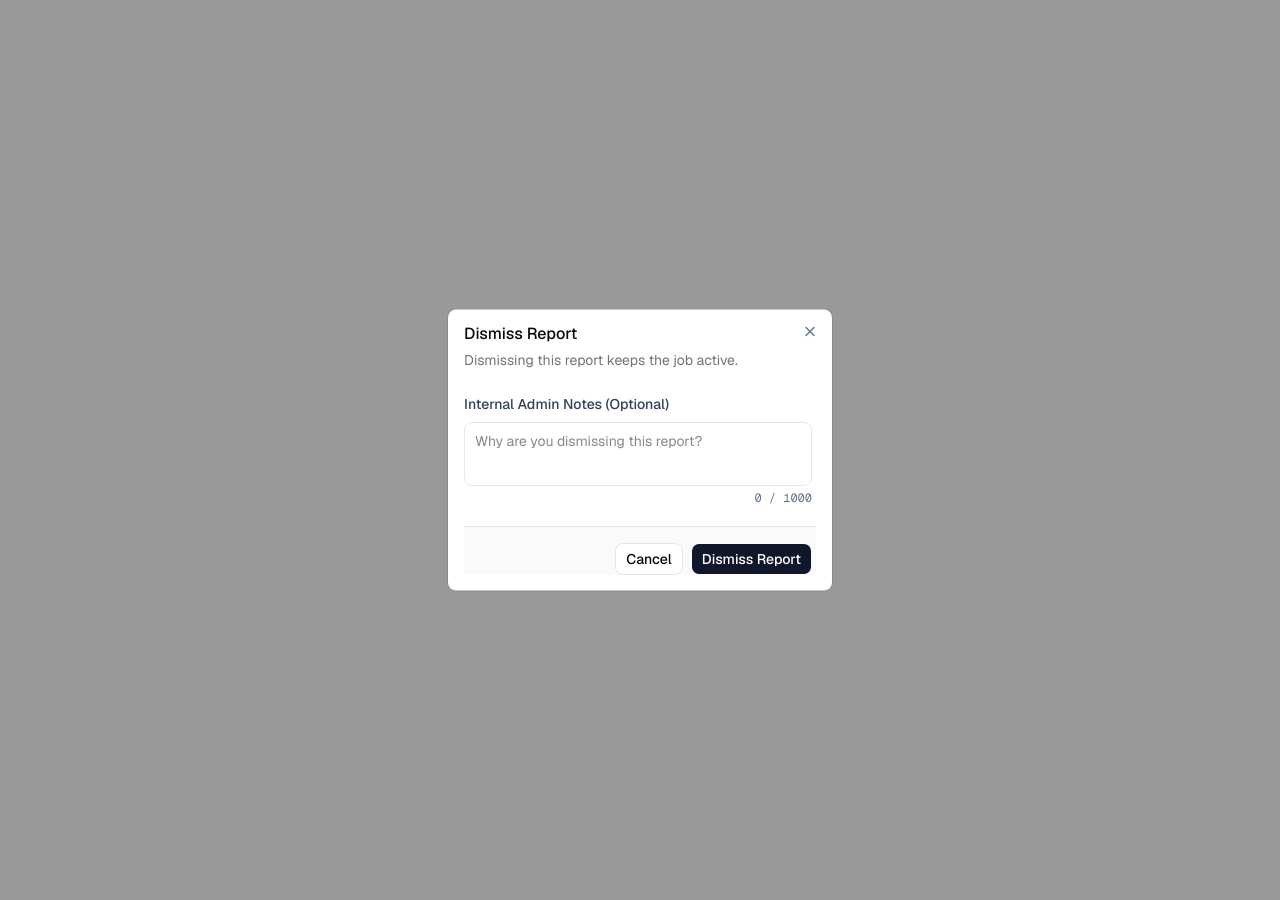
DismissReportDialog › updates live character counter when typing in admin notes
In the text box with placeholder "Why are you dismissing this report?": (638, 454) top-left (464, 422), bottom-right (812, 486), type "Report investigated and found to be invalid."
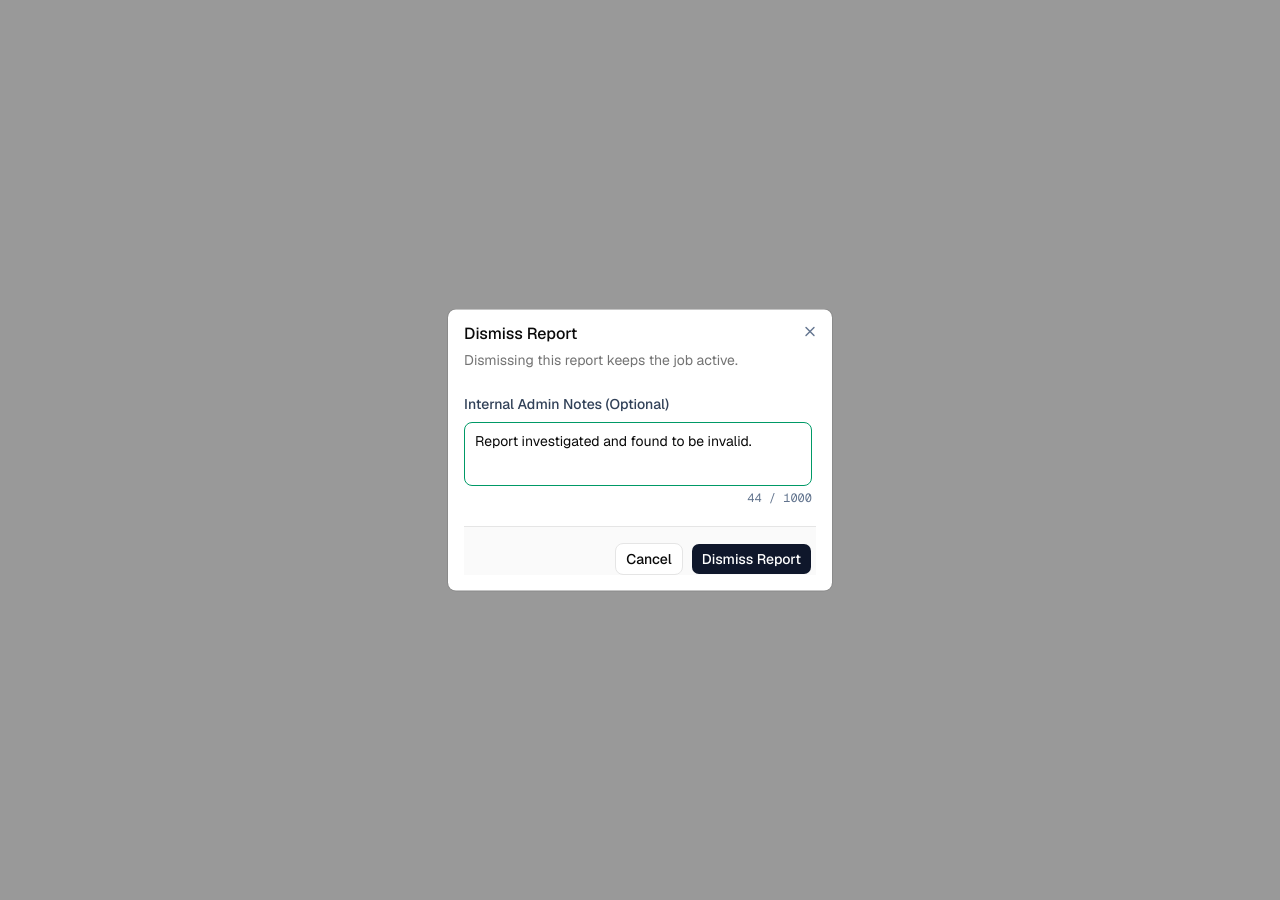
Now the text "44 / 1000" is shown, box top-left (747, 490), bottom-right (812, 506)
